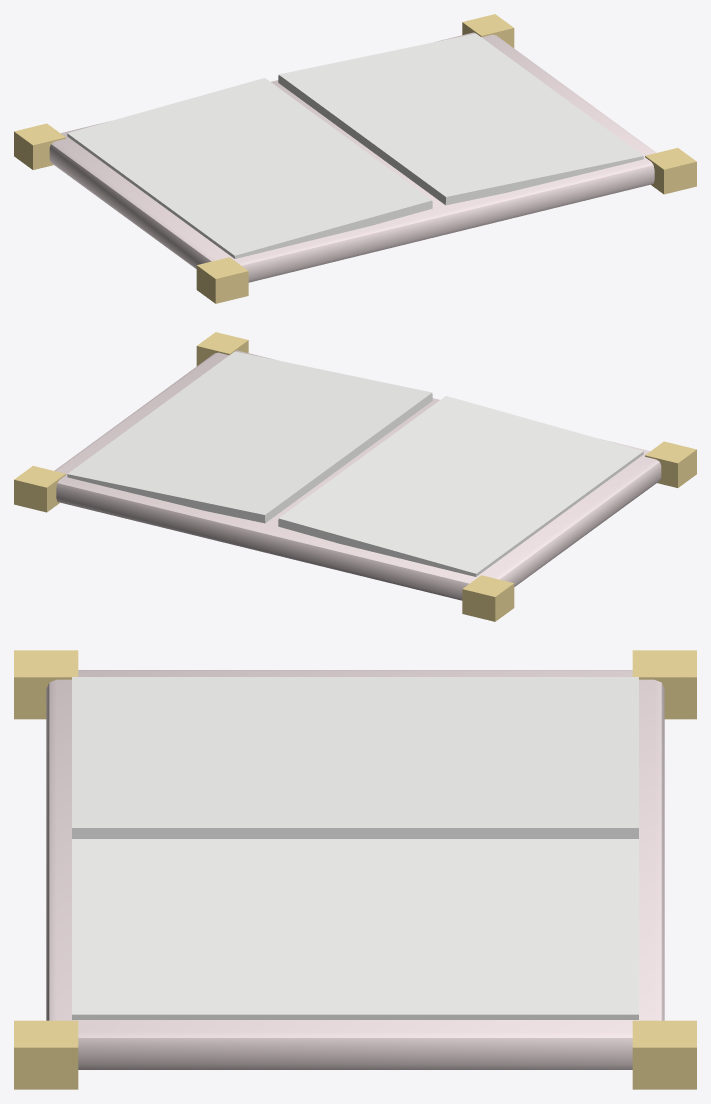
Rendered from artist-lookbook-catalog.glb.
3 renders of one model, top to bottom at view 1: azimuth 30°, elevation 25°; view 2: azimuth 150°, elevation 25°; view 3: azimuth 270°, elevation 25°, orthographic. The views are drawn at different scales.
Parts seen in each view (by area): view 1: lookbook_Page_L, lookbook_Page_R, lookbook_Hardcover, lookbook_Corner_-0.17_-0.12, lookbook_Corner_0.17_-0.12, lookbook_Corner_-0.17_0.12, lookbook_Corner_0.17_0.12; view 2: lookbook_Page_L, lookbook_Page_R, lookbook_Hardcover, lookbook_Corner_-0.17_0.12, lookbook_Corner_0.17_0.12, lookbook_Corner_-0.17_-0.12, lookbook_Corner_0.17_-0.12; view 3: lookbook_Page_R, lookbook_Page_L, lookbook_Hardcover, lookbook_Corner_0.17_0.12, lookbook_Corner_0.17_-0.12, lookbook_Corner_-0.17_0.12, lookbook_Corner_-0.17_-0.12.
Part boxes in pixels (x1,y1,x2,y2): lookbook_Page_L: (67, 78, 432, 258); lookbook_Page_R: (278, 33, 643, 205); lookbook_Hardcover: (49, 32, 656, 282); lookbook_Corner_-0.17_-0.12: (196, 257, 248, 303); lookbook_Corner_0.17_-0.12: (645, 148, 696, 194); lookbook_Corner_-0.17_0.12: (14, 123, 65, 169); lookbook_Corner_0.17_0.12: (462, 14, 514, 47); lookbook_Page_L: (278, 396, 643, 576); lookbook_Page_R: (67, 351, 432, 523); lookbook_Hardcover: (54, 350, 661, 600); lookbook_Corner_-0.17_0.12: (462, 575, 514, 621); lookbook_Corner_0.17_0.12: (14, 466, 65, 512); lookbook_Corner_-0.17_-0.12: (645, 441, 696, 487); lookbook_Corner_0.17_-0.12: (196, 332, 248, 365); lookbook_Page_R: (72, 839, 638, 1019); lookbook_Page_L: (72, 677, 638, 838); lookbook_Hardcover: (46, 670, 664, 1069); lookbook_Corner_0.17_0.12: (632, 1020, 696, 1089); lookbook_Corner_0.17_-0.12: (14, 1020, 78, 1089); lookbook_Corner_-0.17_0.12: (632, 650, 696, 719); lookbook_Corner_-0.17_-0.12: (14, 650, 78, 719).
Bounding box in the file's own units: 0.365 × 0.0246 × 0.265.
